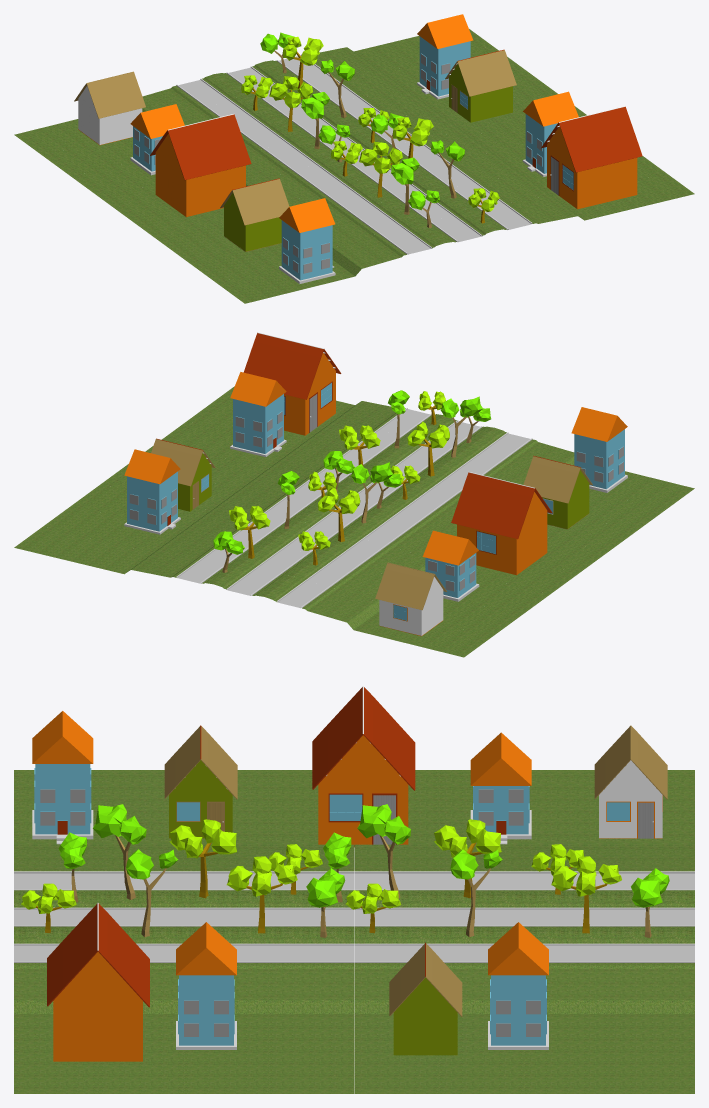
Rendered from Parte_B.fbx.
3 renders of one model, top to bottom at view 1: azimuth 30°, elevation 25°; view 2: azimuth 150°, elevation 25°; view 3: azimuth 270°, elevation 25°, orthographic. The views are drawn at different scales.
Visible parts, largest first — view 1: G3-CHÃO, G1-CASAS, G2-ARVORES; view 2: G3-CHÃO, G1-CASAS, G2-ARVORES; view 3: G3-CHÃO, G1-CASAS, G2-ARVORES.
Boxes of the visible parts, x1=… form: G3-CHÃO: x1=14, y1=29, x2=694, y2=303; G1-CASAS: x1=74, y1=14, x2=642, y2=283; G2-ARVORES: x1=241, y1=32, x2=499, y2=227; G3-CHÃO: x1=14, y1=386, x2=694, y2=657; G1-CASAS: x1=124, y1=332, x2=627, y2=636; G2-ARVORES: x1=213, y1=390, x2=491, y2=572; G3-CHÃO: x1=14, y1=770, x2=694, y2=1093; G1-CASAS: x1=32, y1=686, x2=667, y2=1061; G2-ARVORES: x1=21, y1=804, x2=669, y2=937.
Bounding box in the file's own units: 14400 × 2406 × 12800.
